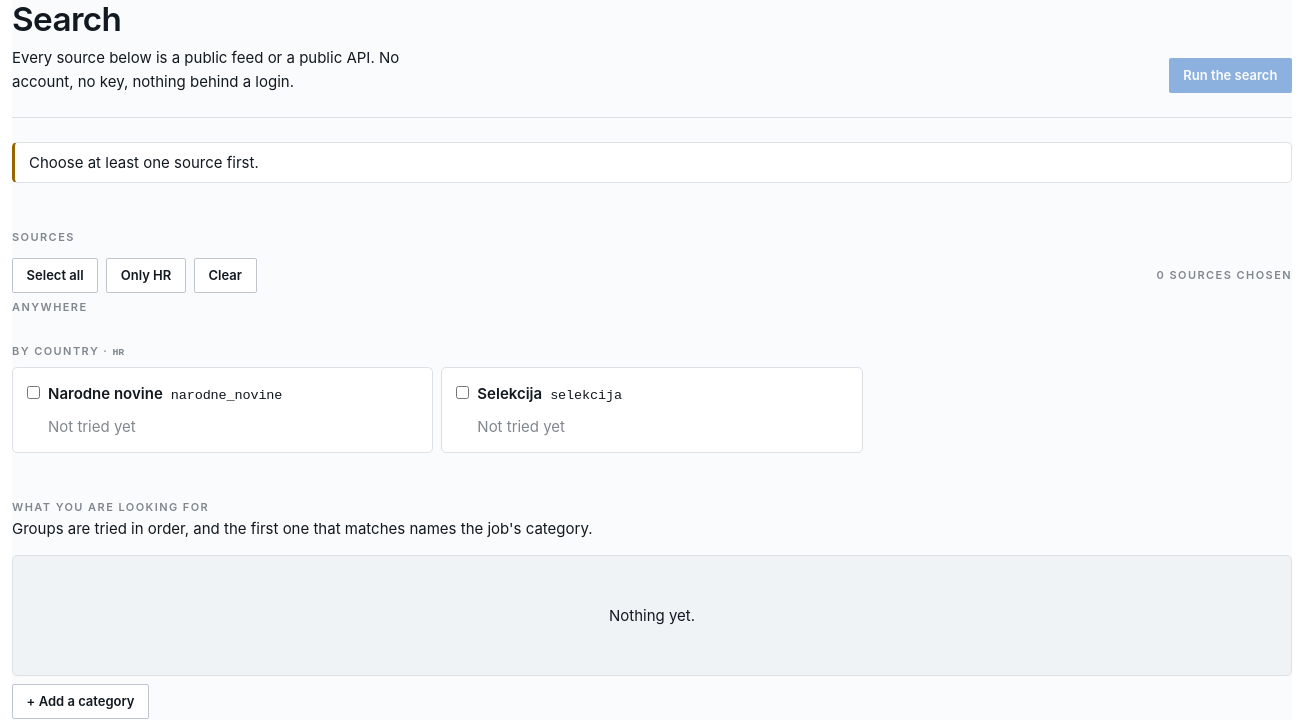
the search screen › fills every source at once through "select all"
Check: the text "Narodne novine" is shown, box [48,382,163,405]
Click the button "+ Add a category" at (81, 701), box [12,684,149,719]
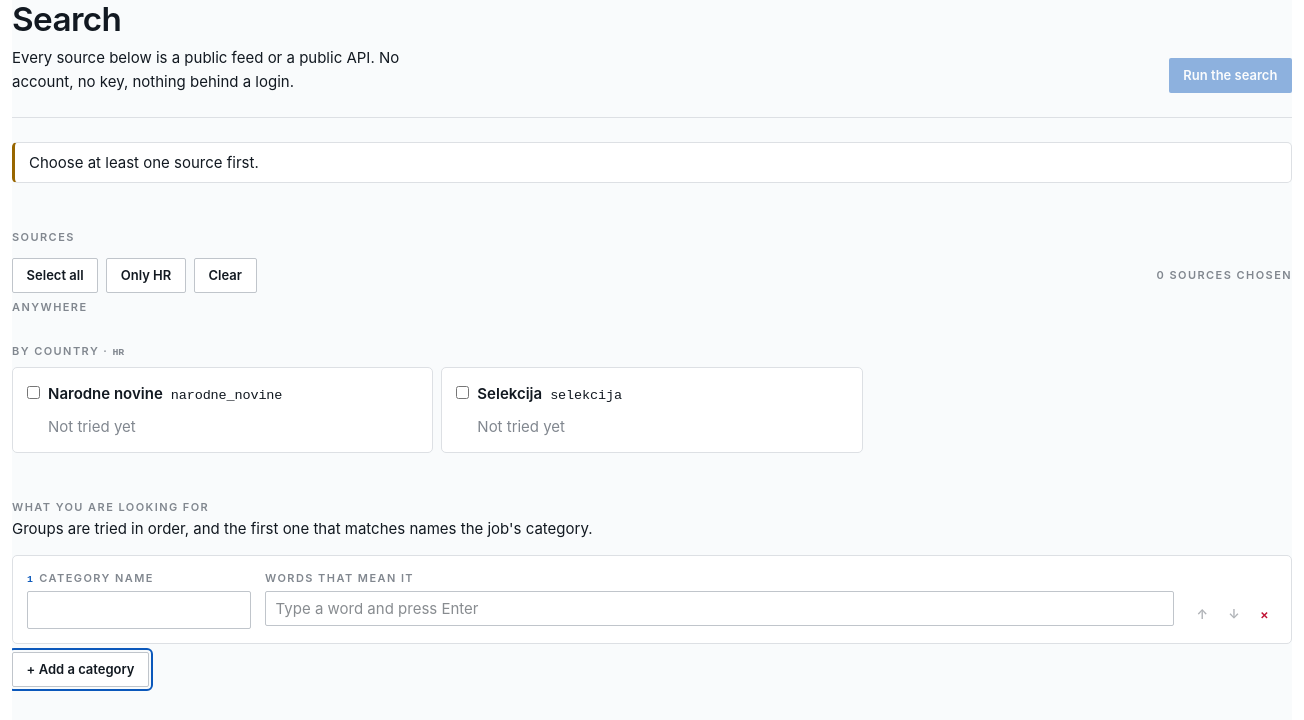
Type "katastar" into the field named "Words that mean it 1" at (720, 608), box [276,596,1164,620]
Then press Enter
(page scrolled)
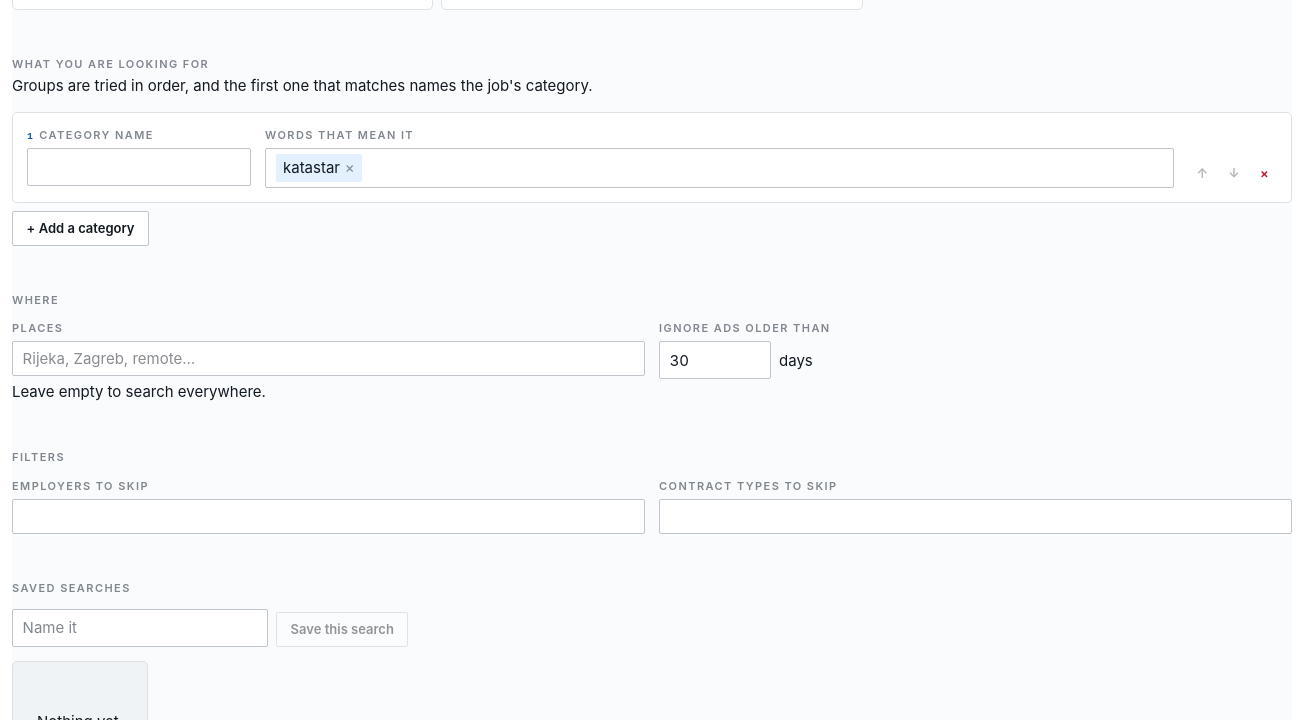
Replace the text in the number field labelled "Ignore ads older than days" with "21" at (715, 360), box [659,341,771,379]
(page scrolled)
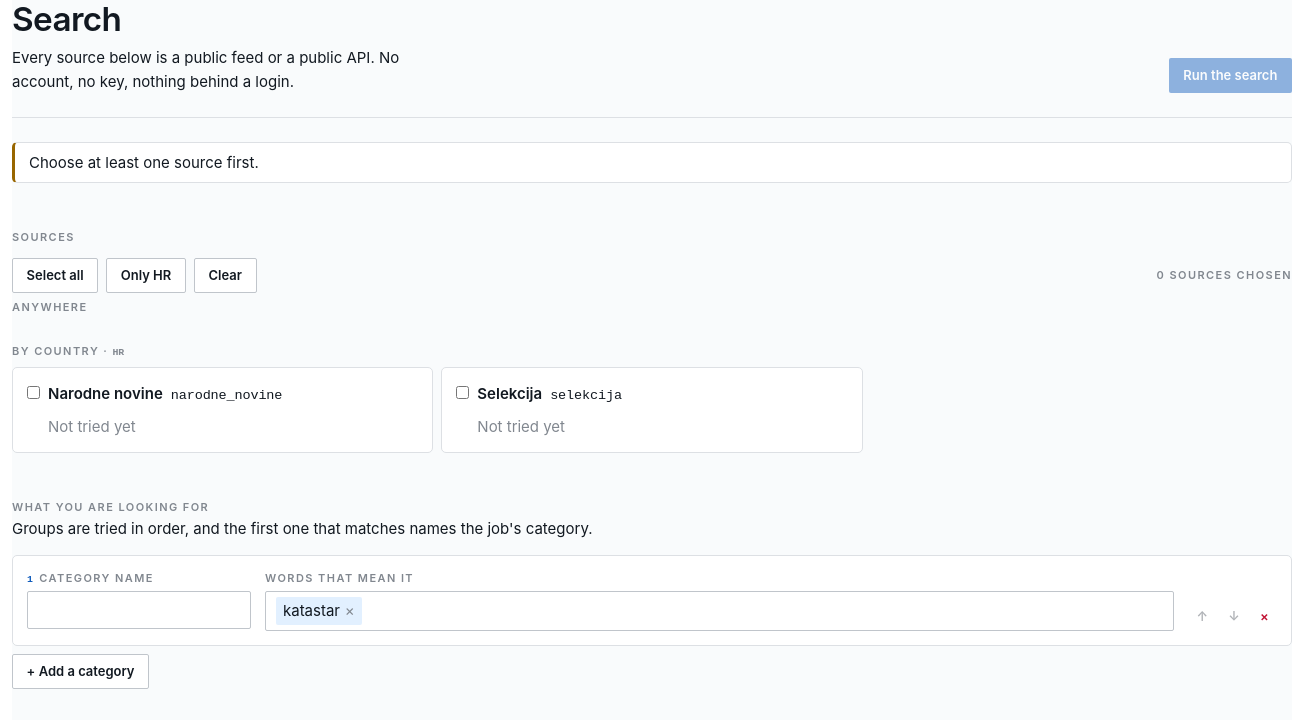
Click the button "Select all" at (55, 275), box [12,258,98,293]
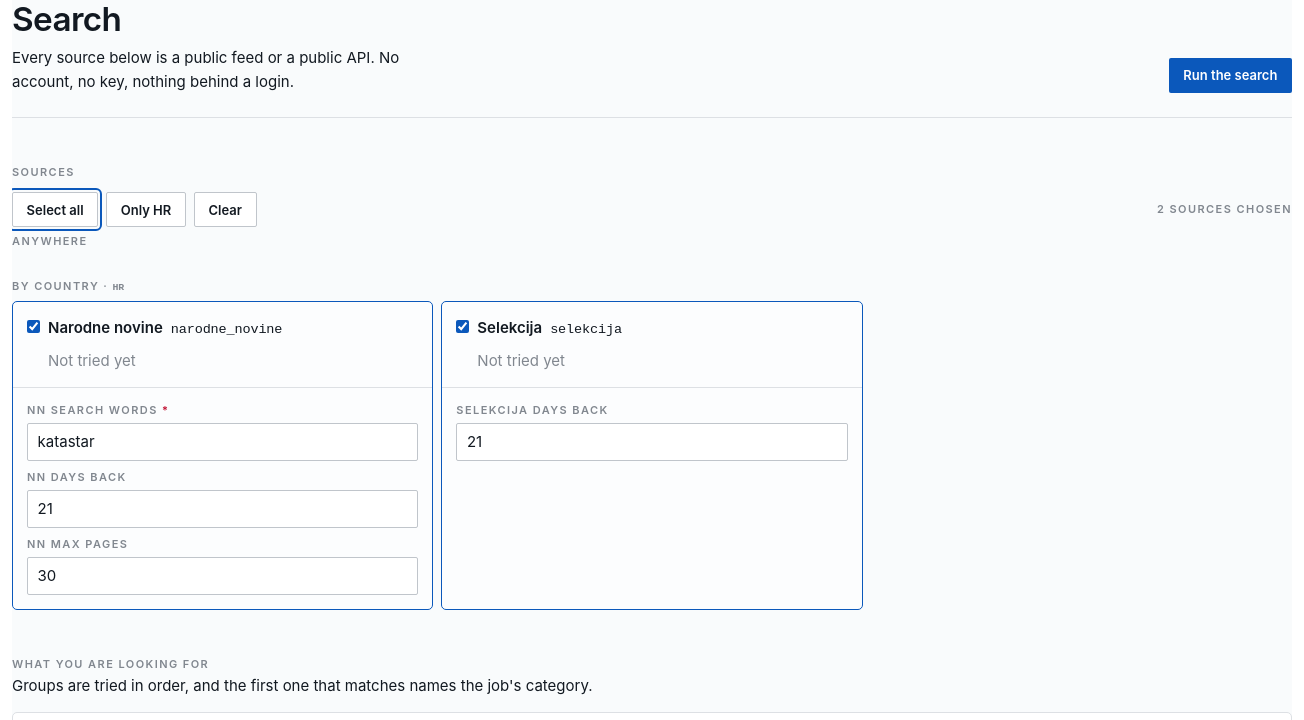
Check: the field labelled "NN search words *" holds "katastar", box [27,423,418,461]
Check: the number field labelled "NN days back" holds "21", box [27,490,418,528]
Check: the number field labelled "Selekcija days back" holds "21", box [456,423,848,461]
